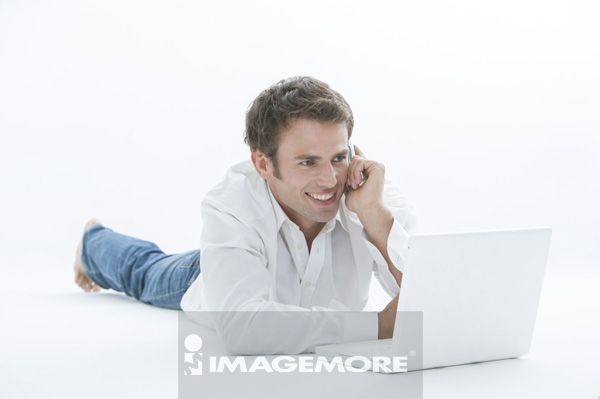talk: (287, 141, 387, 225)
